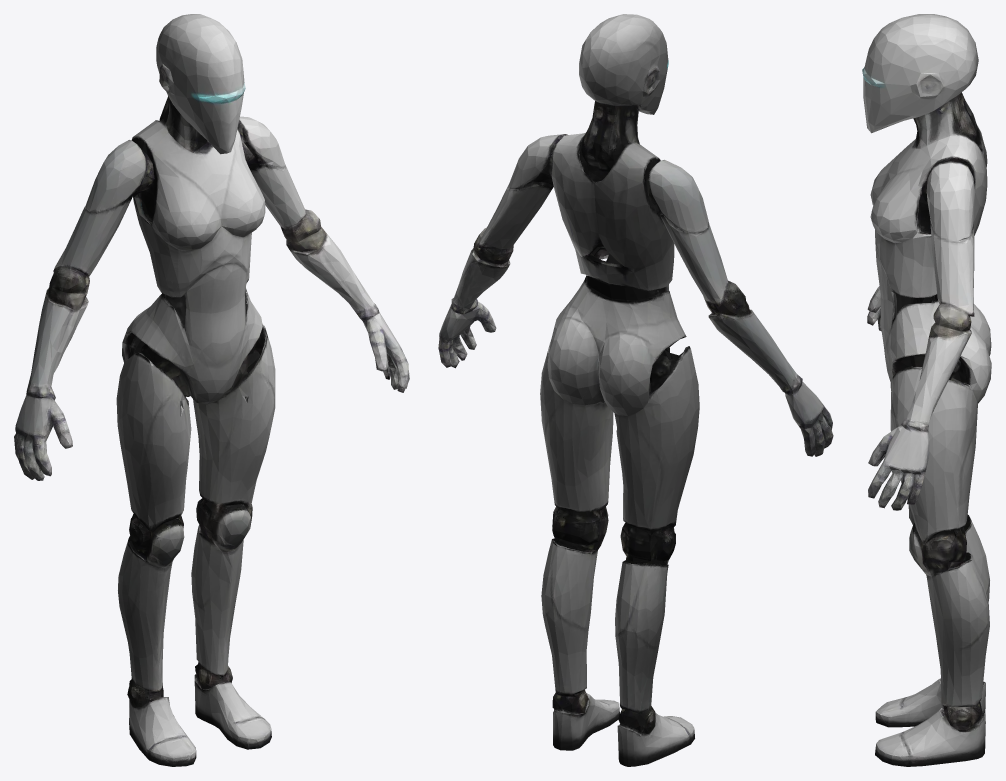
Rendered from figure.glb.
3 renders of one model, left to right at view 1: azimuth 30°, elevation 25°; view 2: azimuth 150°, elevation 25°; view 3: azimuth 270°, elevation 25°, orthographic.
Visible parts, largest first — view 1: geometry_0; view 2: geometry_0; view 3: geometry_0.
Boxes of the visible parts, bbox=[...] form: geometry_0: bbox=[14, 14, 409, 766]; geometry_0: bbox=[438, 14, 833, 766]; geometry_0: bbox=[862, 14, 991, 766].
Bounding box in the file's own units: 0.5596 × 1 × 0.1633.
Materials: 1 (1 with a texture image).
